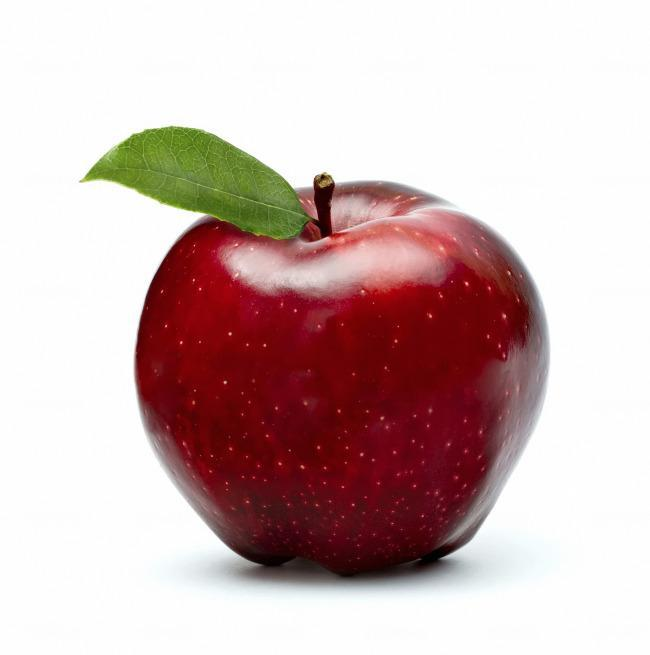apple: (134, 180, 548, 575)
